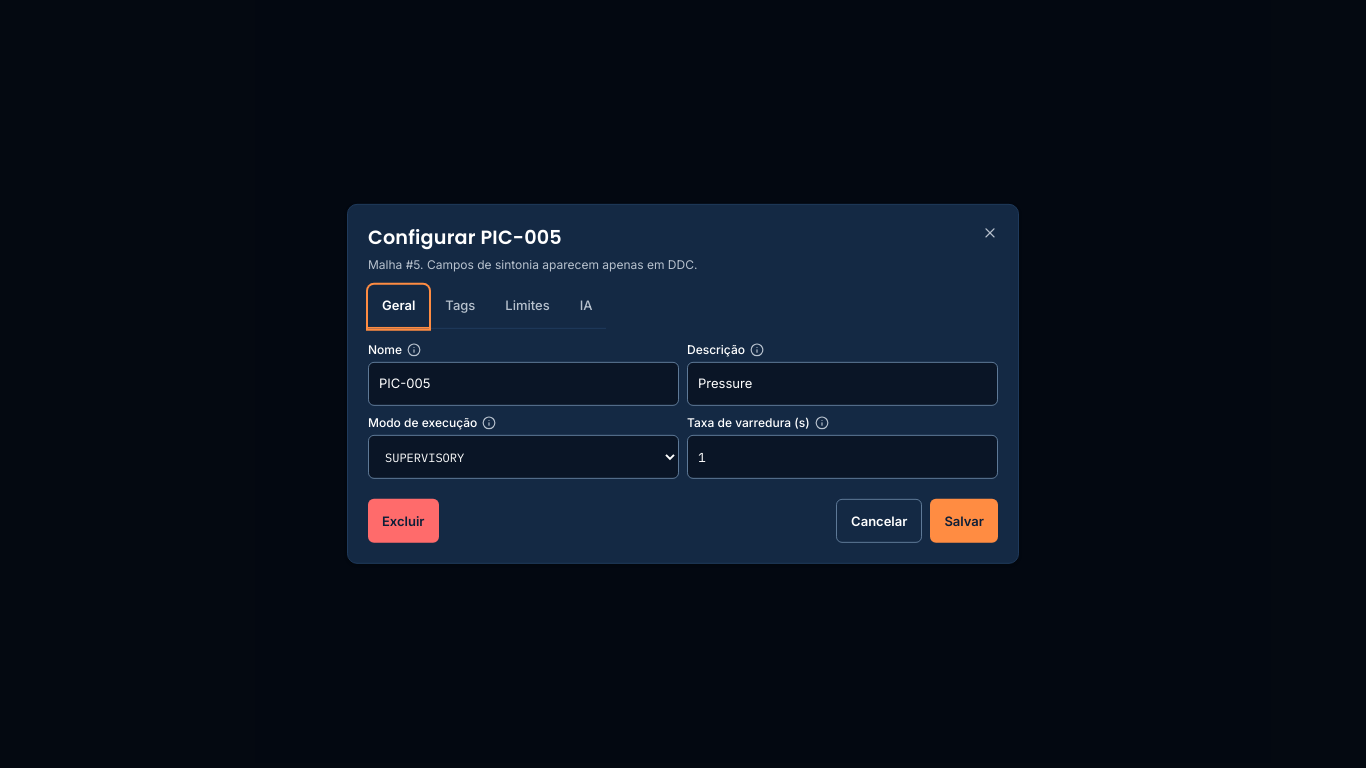
Test: LoopConfigDialog — execution mode gating › reveals them all as soon as the loop is switched to DDC
This screenshot has width=1366, height=768.
Select "DDC" in the dropdown labelled "Modo de execução". click: (524, 457)
box: x1=368 y1=435 x2=679 y2=479
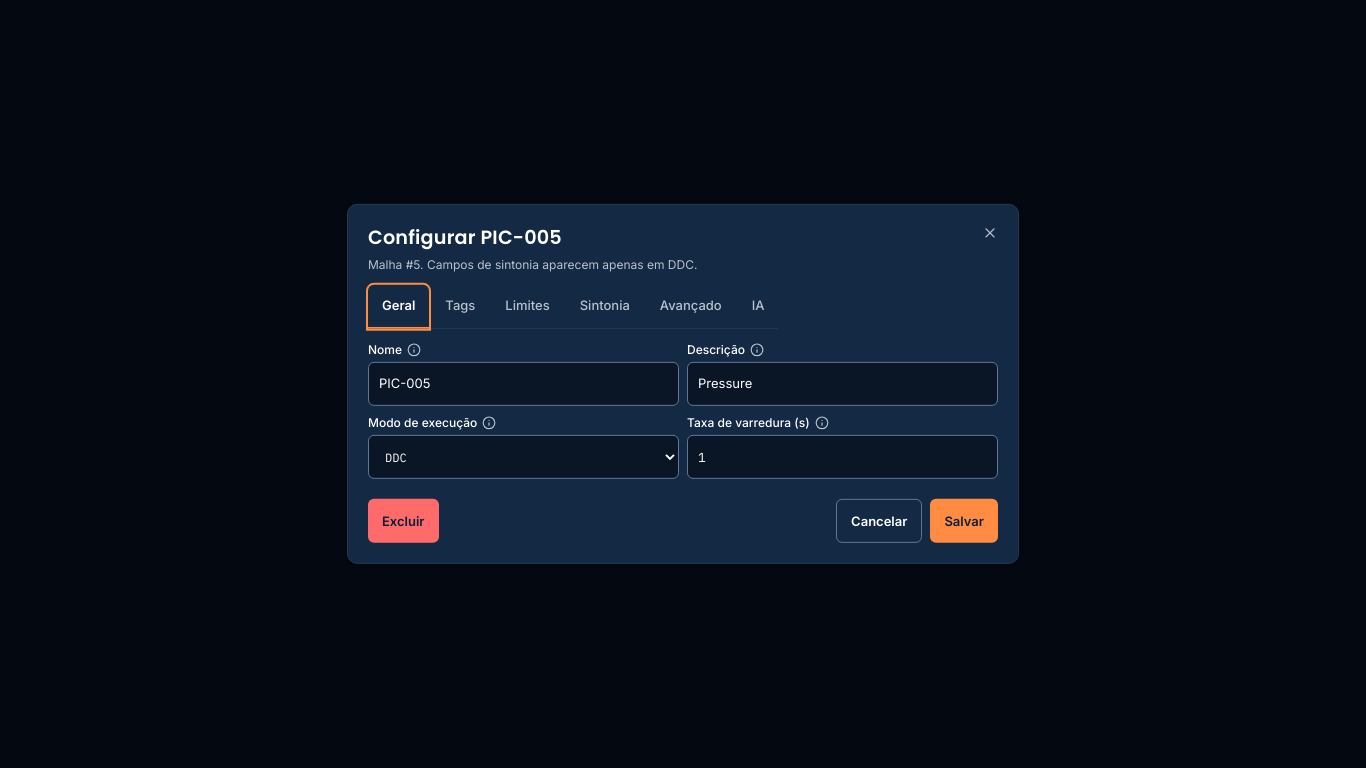
Result: the tab "Sintonia" is shown at x1=566 y1=285 x2=644 y2=329
Result: the tab "Avançado" is shown at x1=646 y1=285 x2=736 y2=329
